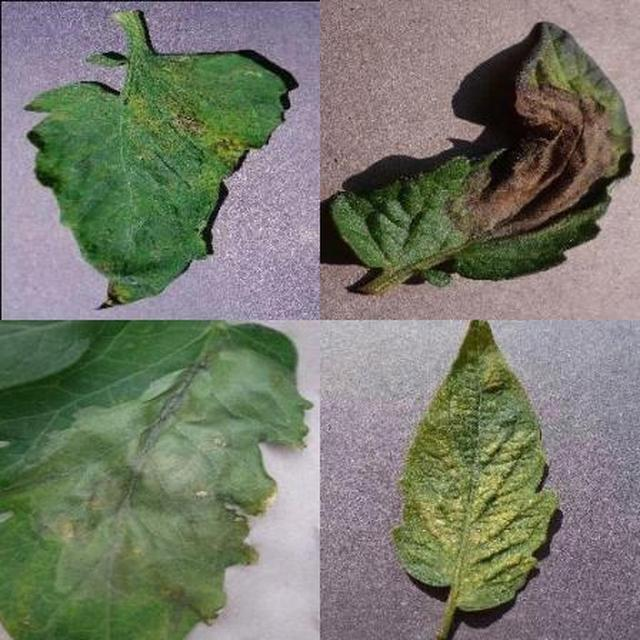Septoria Leaf: (222, 223, 640, 640)
